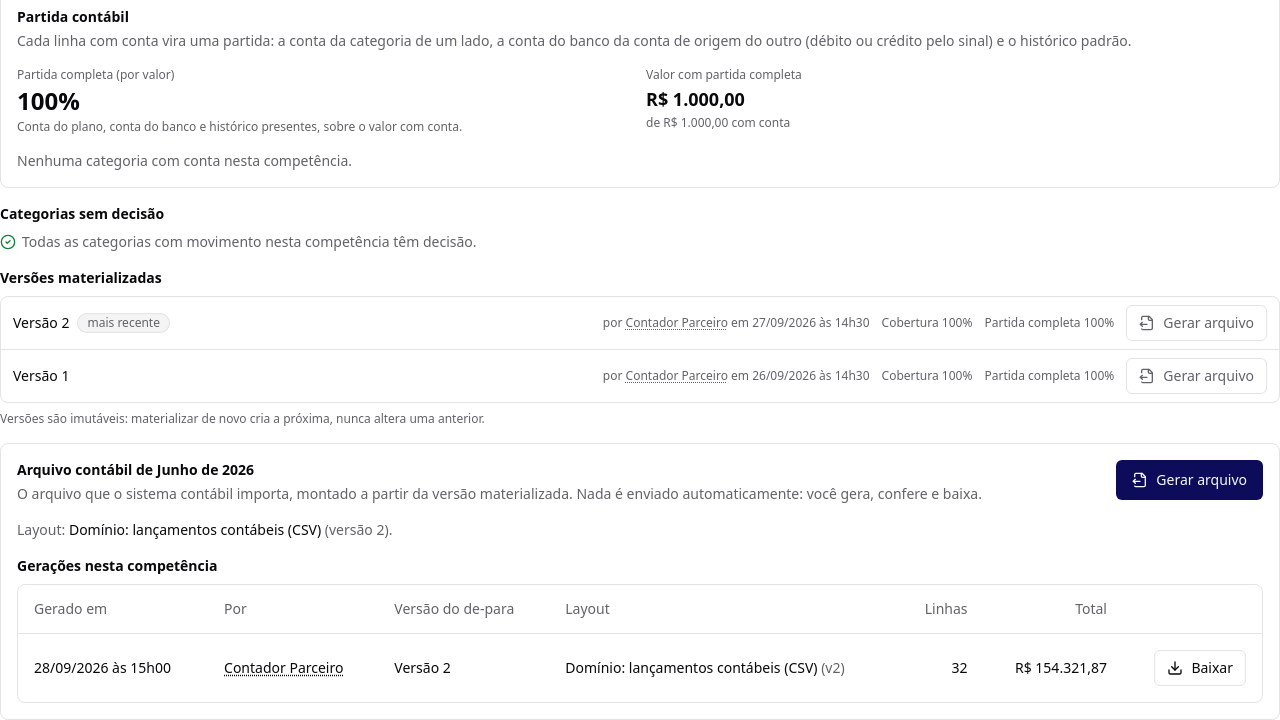
it: recusas 409 como ESTADO, nunca toast › ARQUIVO_DESTINO_INVALIDO: estado com a userMessage
(page scrolled)
Click the button "Gerar arquivo" in the row of "Arquivo contábil de": (1190, 480) [1116, 460, 1263, 500]
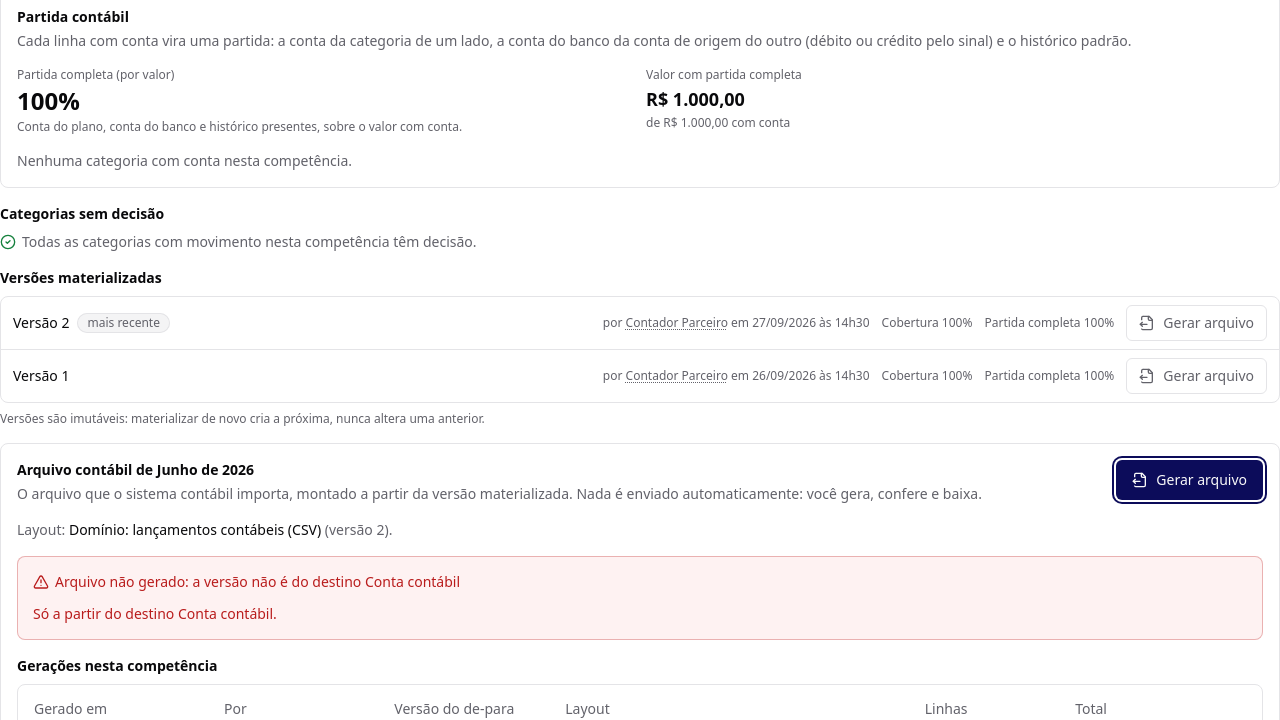
Check: the message with test id "accounting-file-refusal" shows "Só a partir do destino Conta contábil.", box [33, 604, 277, 623]
